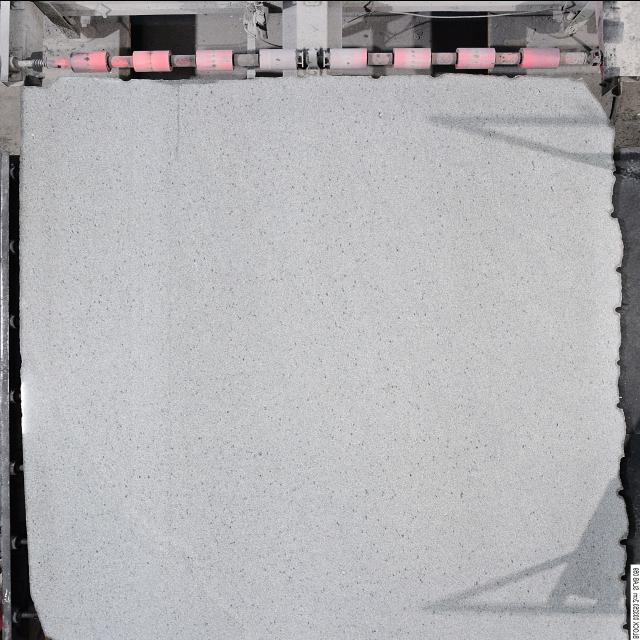chapa: (18, 74, 627, 640)
